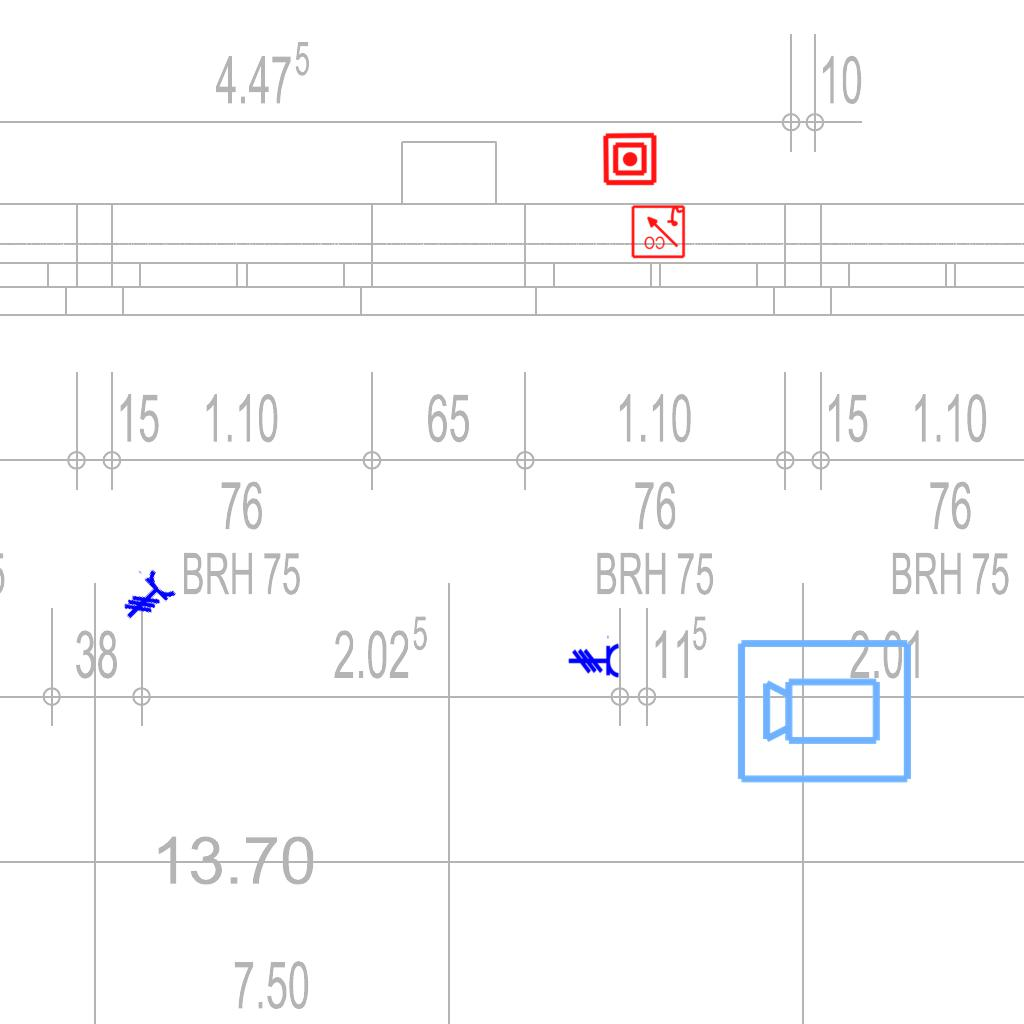CEE_Drehstrom_Steckdose_16_32_A: (109, 561, 178, 631), (568, 634, 620, 679)
KFO_Kamera_mit_Festobjektiv: (734, 633, 916, 787)
NAM-Nichtautomatischer_Melder: (602, 131, 658, 187)
ROA_Rauchmelder_optisch_mit_Signalgeber_(Sockelsirene): (630, 203, 686, 259)
